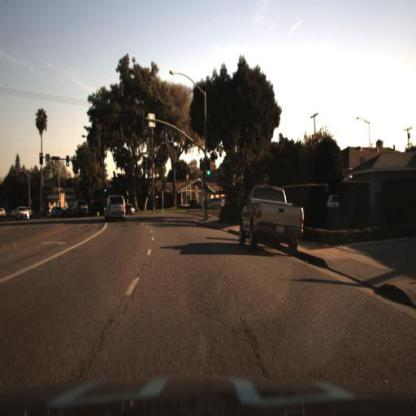car: (235, 170, 307, 266), (13, 192, 40, 233), (104, 194, 127, 225), (69, 195, 93, 224), (70, 201, 90, 222), (14, 204, 32, 222), (208, 197, 227, 213), (127, 203, 137, 221)
trafficLight-Green: (204, 167, 212, 183), (64, 154, 72, 169), (206, 163, 213, 177), (102, 183, 108, 199), (65, 155, 70, 171), (104, 186, 110, 199)
trafficLight-Red: (37, 152, 45, 173)
trafficLight-RedLeft: (38, 151, 45, 167)
